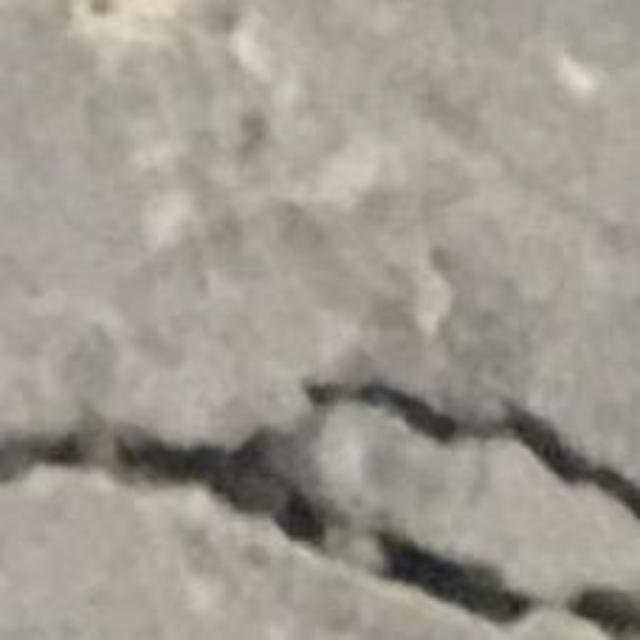crack: (0, 381, 639, 623)
